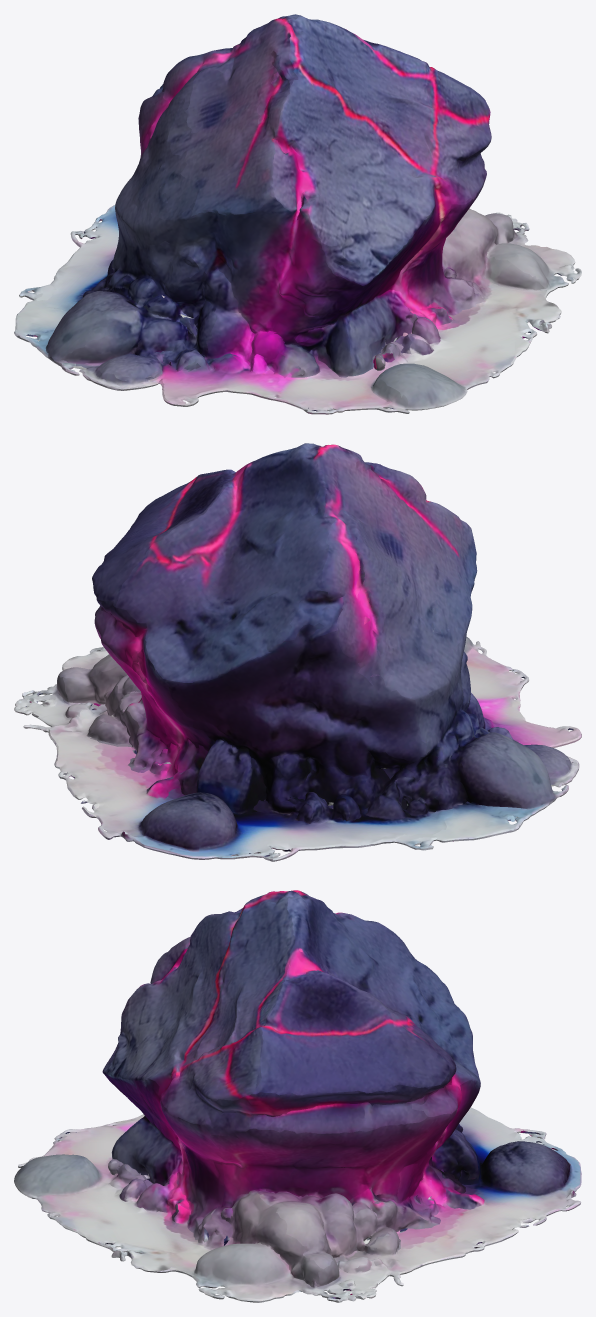
The model's file is shore-stone-14-generated-2026-05-17T20-31-35-259Z.high.glb.
3 renders of one model, top to bottom at view 1: azimuth 30°, elevation 25°; view 2: azimuth 150°, elevation 25°; view 3: azimuth 270°, elevation 25°, orthographic. The views are drawn at different scales.
Parts seen in each view (by area): view 1: temp_mesh.ply; view 2: temp_mesh.ply; view 3: temp_mesh.ply.
Boxes of the visible parts, x1=… form: temp_mesh.ply: x1=14, y1=14, x2=581, y2=414; temp_mesh.ply: x1=14, y1=443, x2=581, y2=861; temp_mesh.ply: x1=14, y1=890, x2=581, y2=1302.
Bounding box in the file's own units: 1.96 × 1.1 × 1.97.
1 material, 1 textured.
